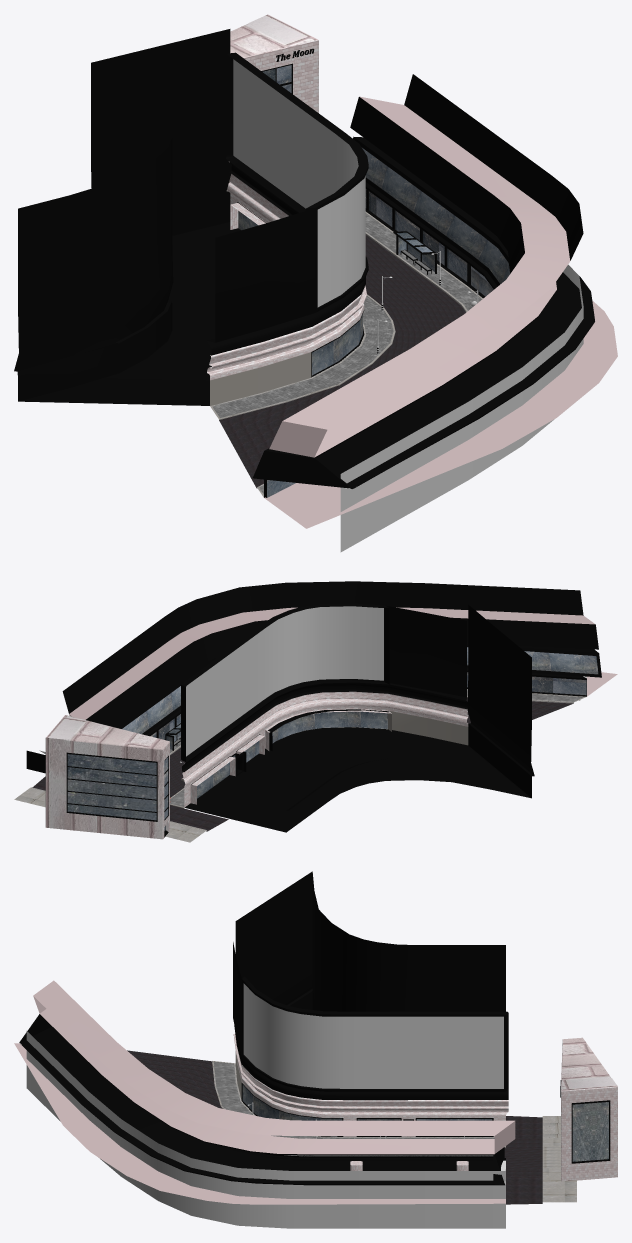
The model's file is background.fbx.
3 views of the same model, one above another, from view 1: azimuth 30°, elevation 25°; view 2: azimuth 150°, elevation 25°; view 3: azimuth 270°, elevation 25° (orthographic). The views are drawn at different scales.
Parts seen in each view (by area): view 1: building1, building2, road, sidewalk, building3, bus_station; view 2: building1, building2, building3, road, sidewalk; view 3: building2, building1, building3, road, sidewalk.
Part boxes in pixels (x1,y1,x2,y2): building1: [14, 29, 368, 405]; building2: [253, 74, 617, 552]; road: [219, 235, 465, 488]; sidewalk: [210, 190, 482, 497]; building3: [228, 14, 318, 162]; bus_station: [393, 231, 436, 274]; building1: [181, 603, 534, 832]; building2: [26, 581, 617, 773]; building3: [45, 715, 169, 839]; road: [32, 697, 572, 831]; sidewalk: [14, 689, 586, 842]; building2: [14, 980, 515, 1228]; building1: [233, 871, 508, 1136]; building3: [560, 1037, 617, 1181]; road: [127, 1050, 542, 1204]; sidewalk: [212, 1061, 576, 1202].
Size of the model in its own units: 19231 by 7597 by 24265.
